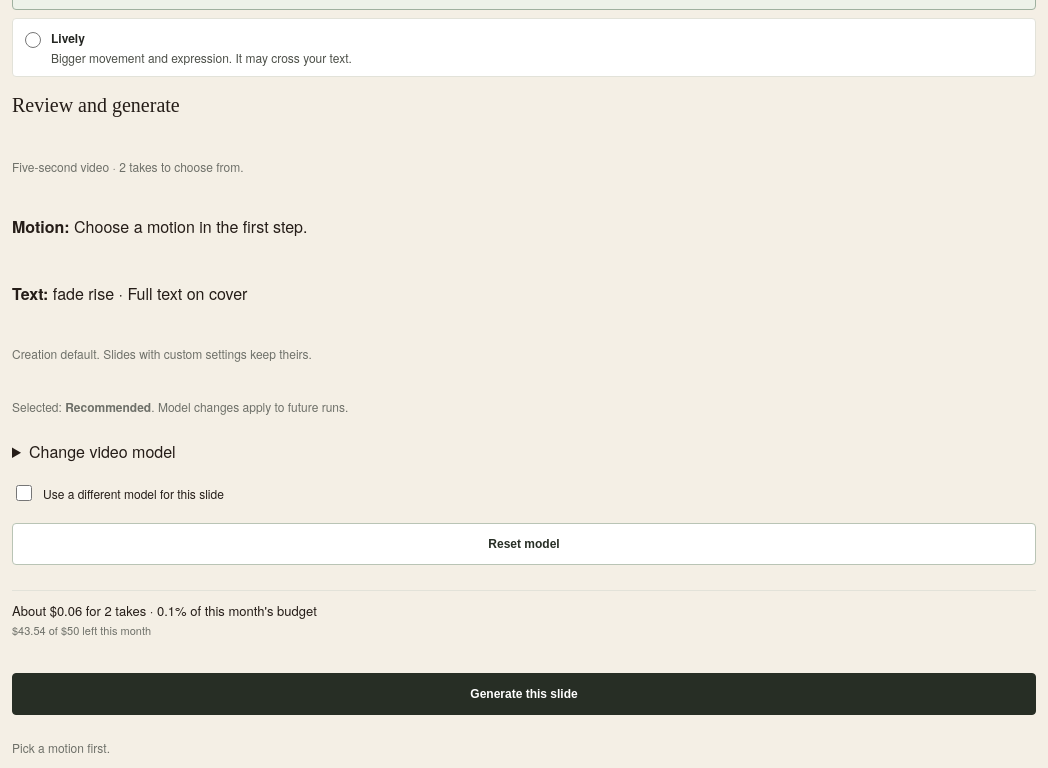
Test case: model panel › greys out a model that can't take the slide, with the reason
(page scrolled)
Click the heading "Change video model" at (102, 452), box [29,440,176,463]
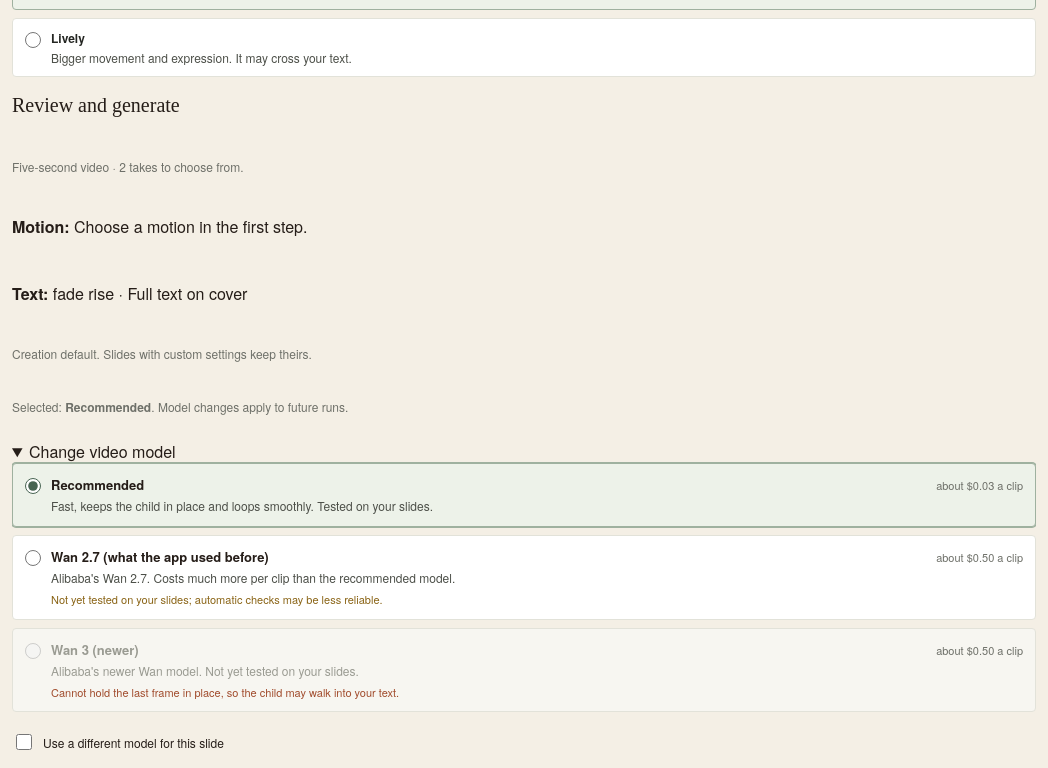
Expected: the radio button labelled "Wan 3" is disabled, [25,642,41,658]
Expected: the list named "Video model" shows "Cannot hold the last frame in place", [51,684,399,700]
Expected: the radio button labelled "Wan 2.7" is enabled, [25,550,41,566]
